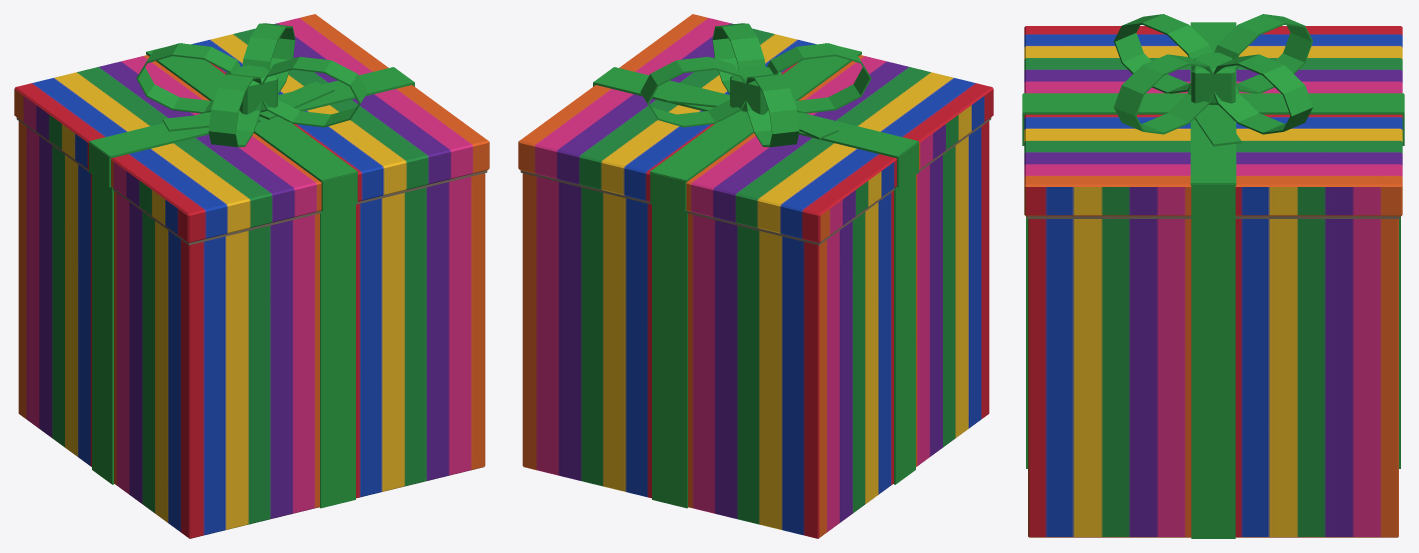
File: party_gift_stripes.glb
3 renders of one model, left to right at view 1: azimuth 30°, elevation 25°; view 2: azimuth 150°, elevation 25°; view 3: azimuth 270°, elevation 25°, orthographic. The views are drawn at different scales.
Visible parts, largest first — view 1: party_gift_stripes; view 2: party_gift_stripes; view 3: party_gift_stripes.
Boxes of the visible parts, bbox=[...] form: party_gift_stripes: bbox=[14, 14, 489, 538]; party_gift_stripes: bbox=[518, 14, 993, 538]; party_gift_stripes: bbox=[1022, 14, 1404, 538].
Bounding box in the file's own units: 0.303 × 0.3634 × 0.303.
3 materials, 1 textured.
